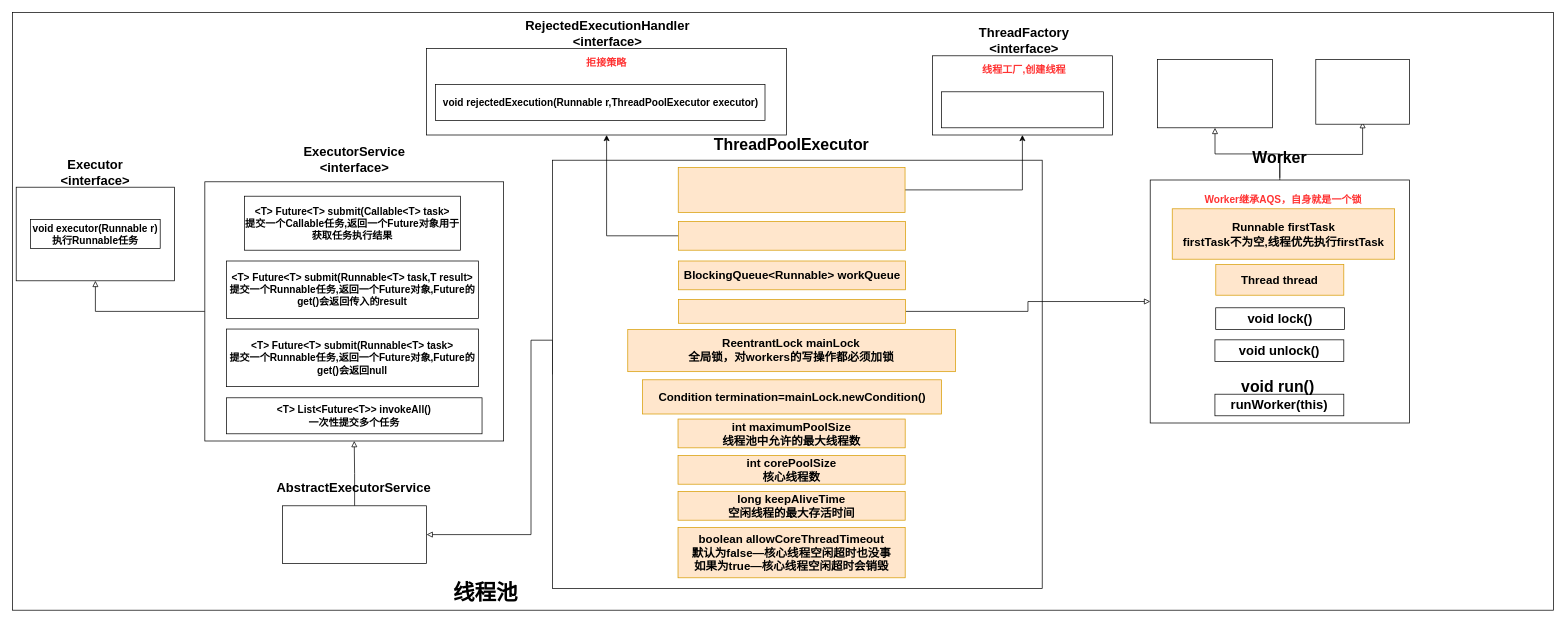
Image size: 1566x623. Some labels were removed from this diagram. The shapes that lost their labels are listed below. From the top down, each one's centre as x and y in pixels, then its label:
At pixel 1022 109: "Thread newThread(Runnable r)".
At pixel 1215 93: "Runnable".
At pixel 1362 91: "AQS".
At pixel 791 189: "ThreadFactory threadFactory 所以线程都通过threadFactory创建".
At pixel 792 235: "RejectedExecutionHandler handler 拒绝策略".
At pixel 792 311: "HashSet<Worker> workers 将线程封装为Worker，存储存活的线程".
